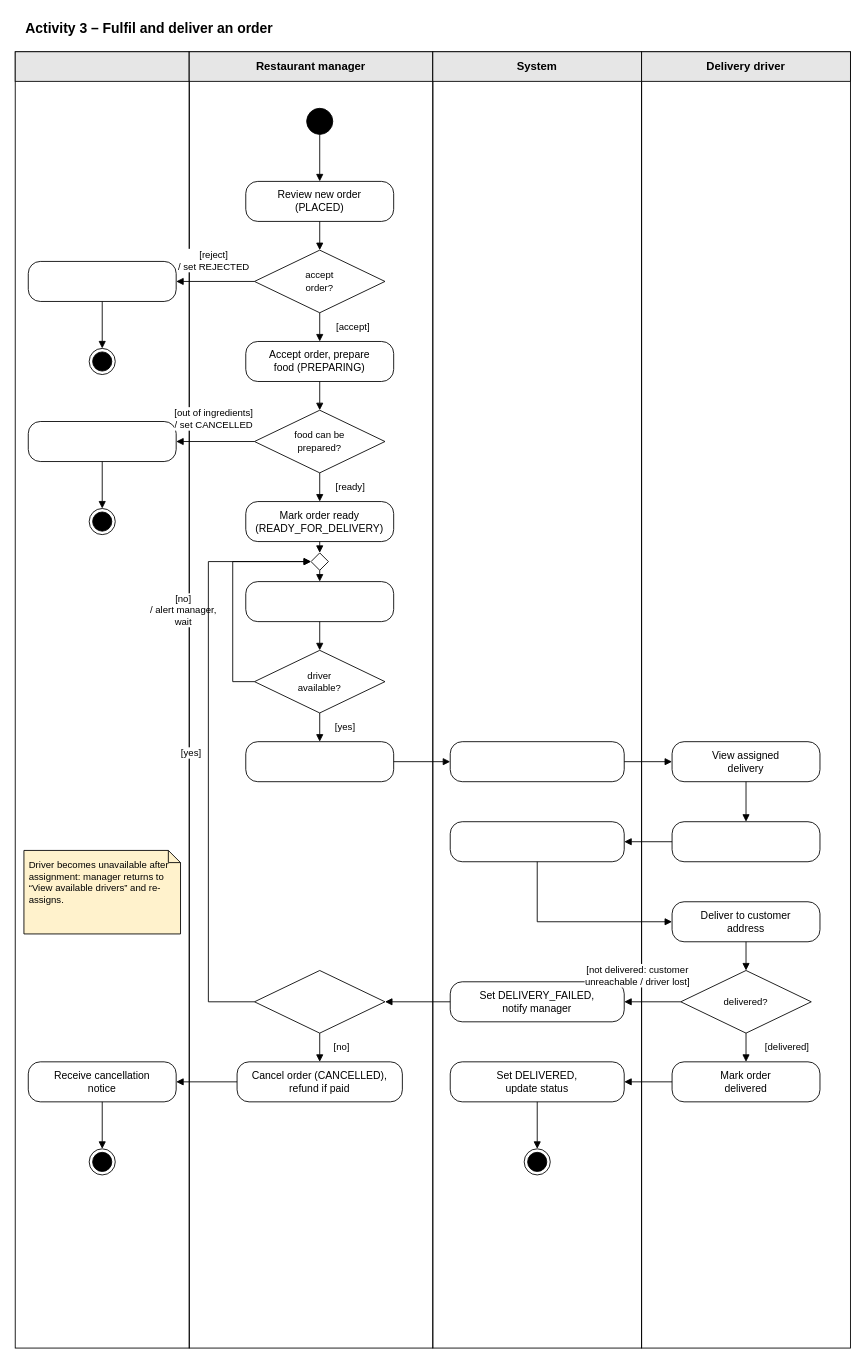
The diagram is 866 pixels wide and 1363 high, and some of its shapes have lost their labels. Each missing label, with the centre of its shape:
Assign driver: (319,761)
Create delivery (ASSIGNED), notify driver: (536,761)
Customer: (101,66)
Pick up order: (745,841)
Receive cancellation notice (refund if paid): (101,441)
Receive rejection notice (refund if paid): (101,281)
retry delivery?: (319,1001)
Set OUT_FOR_DELIVERY, notify customer: (536,841)
View available drivers (with planned deliveries): (319,601)
